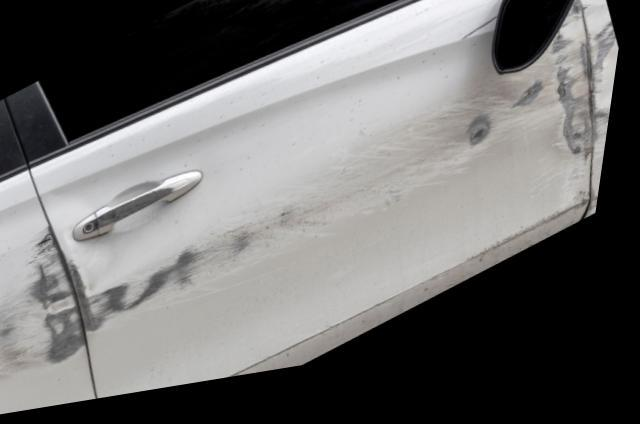scratch: (73, 16, 606, 340), (0, 227, 93, 393), (591, 33, 623, 182)
